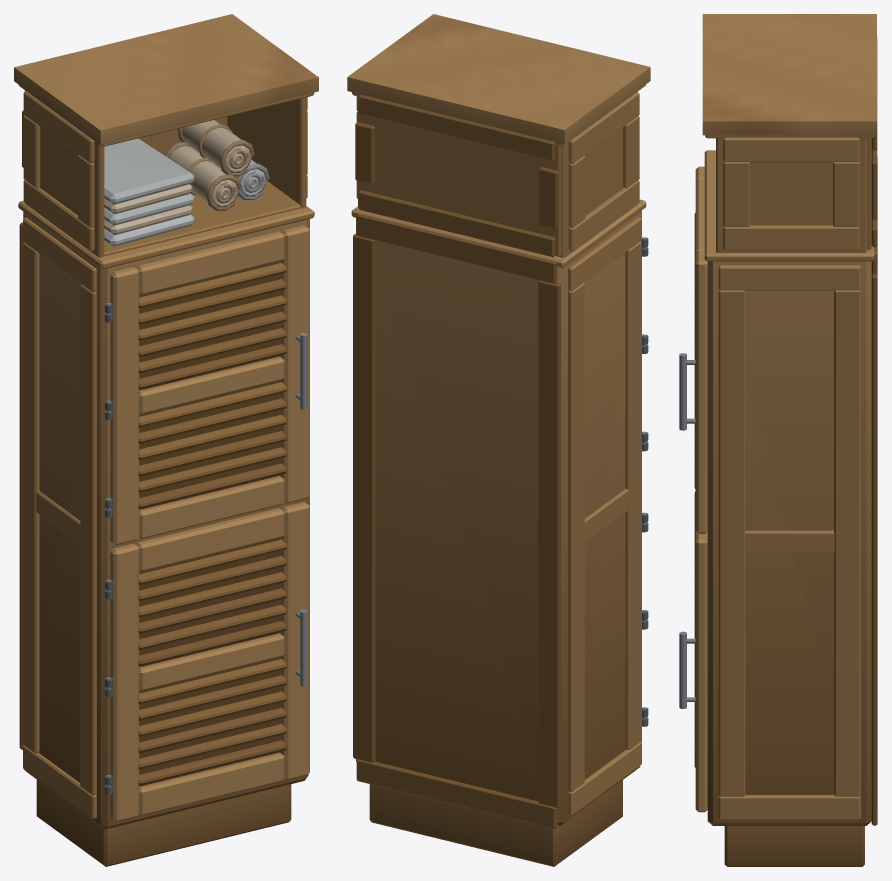
The model's file is tall-cabinet.glb.
3 views of the same model, side by side, from view 1: azimuth 30°, elevation 25°; view 2: azimuth 150°, elevation 25°; view 3: azimuth 270°, elevation 25° (orthographic).
Parts seen in each view (by area): view 1: tall_cabinet; view 2: tall_cabinet; view 3: tall_cabinet.
Part boxes in pixels (x1=…): tall_cabinet: x1=14, y1=14, x2=318, y2=866; tall_cabinet: x1=347, y1=14, x2=650, y2=866; tall_cabinet: x1=679, y1=14, x2=877, y2=866.
Size of the model in its own units: 0.588 by 1.93 by 0.46.
